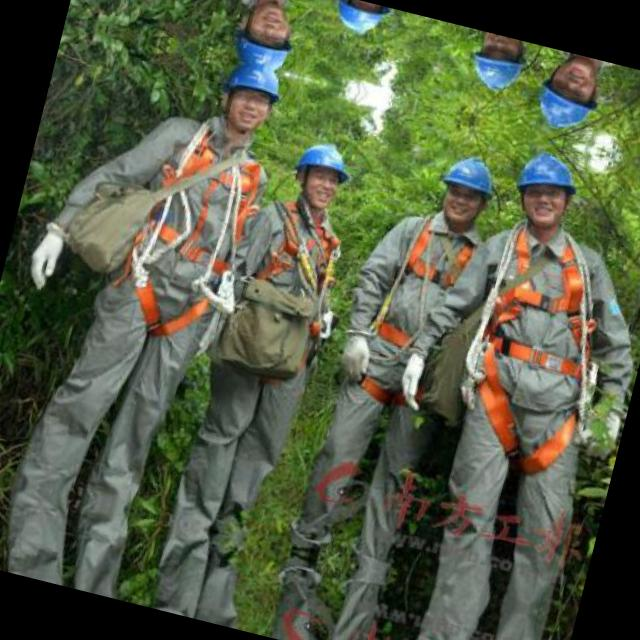helmet: (526, 46, 612, 138), (502, 146, 586, 238), (423, 144, 502, 238), (282, 133, 358, 215), (211, 60, 285, 139), (458, 28, 534, 102), (227, 0, 301, 73), (324, 0, 394, 42)
